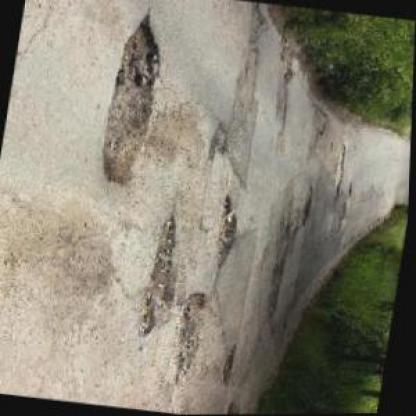pothole: (94, 12, 171, 190), (134, 212, 192, 341), (172, 291, 211, 376), (214, 196, 244, 270), (204, 122, 231, 165), (222, 345, 243, 390), (333, 146, 349, 202), (300, 186, 318, 229)
